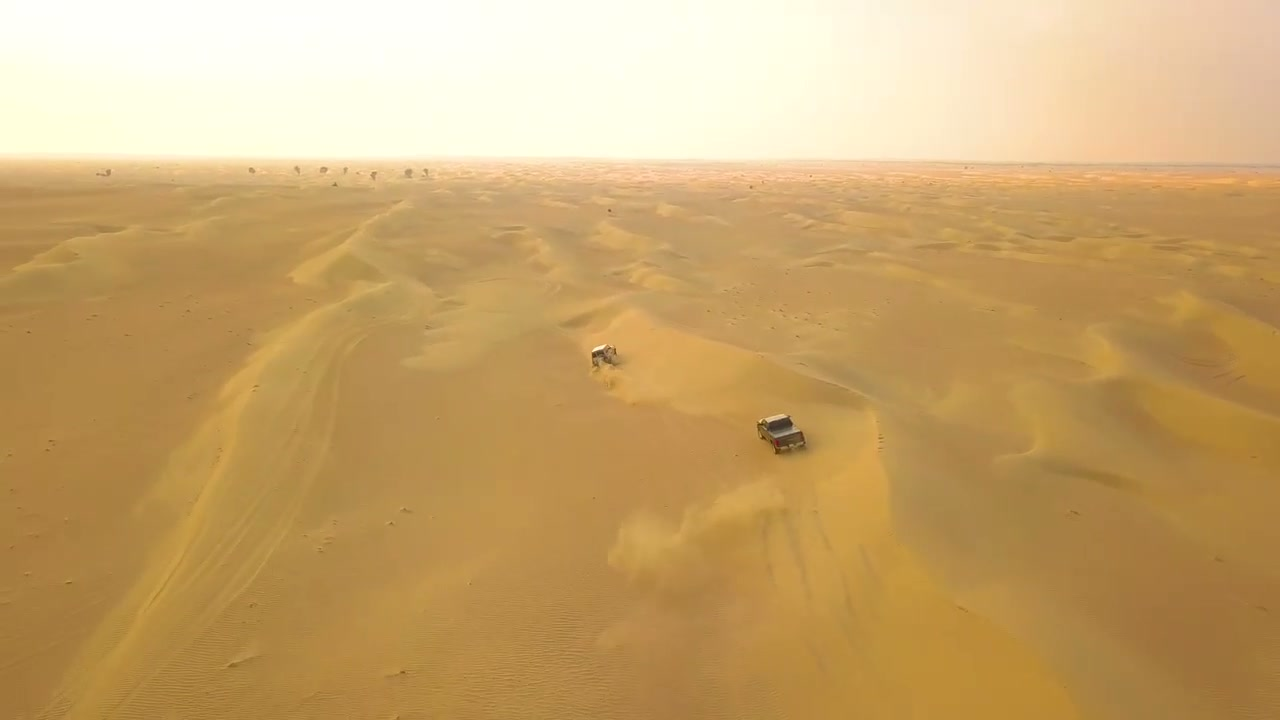vehicle_track: (66, 329, 349, 717), (764, 458, 895, 719)
